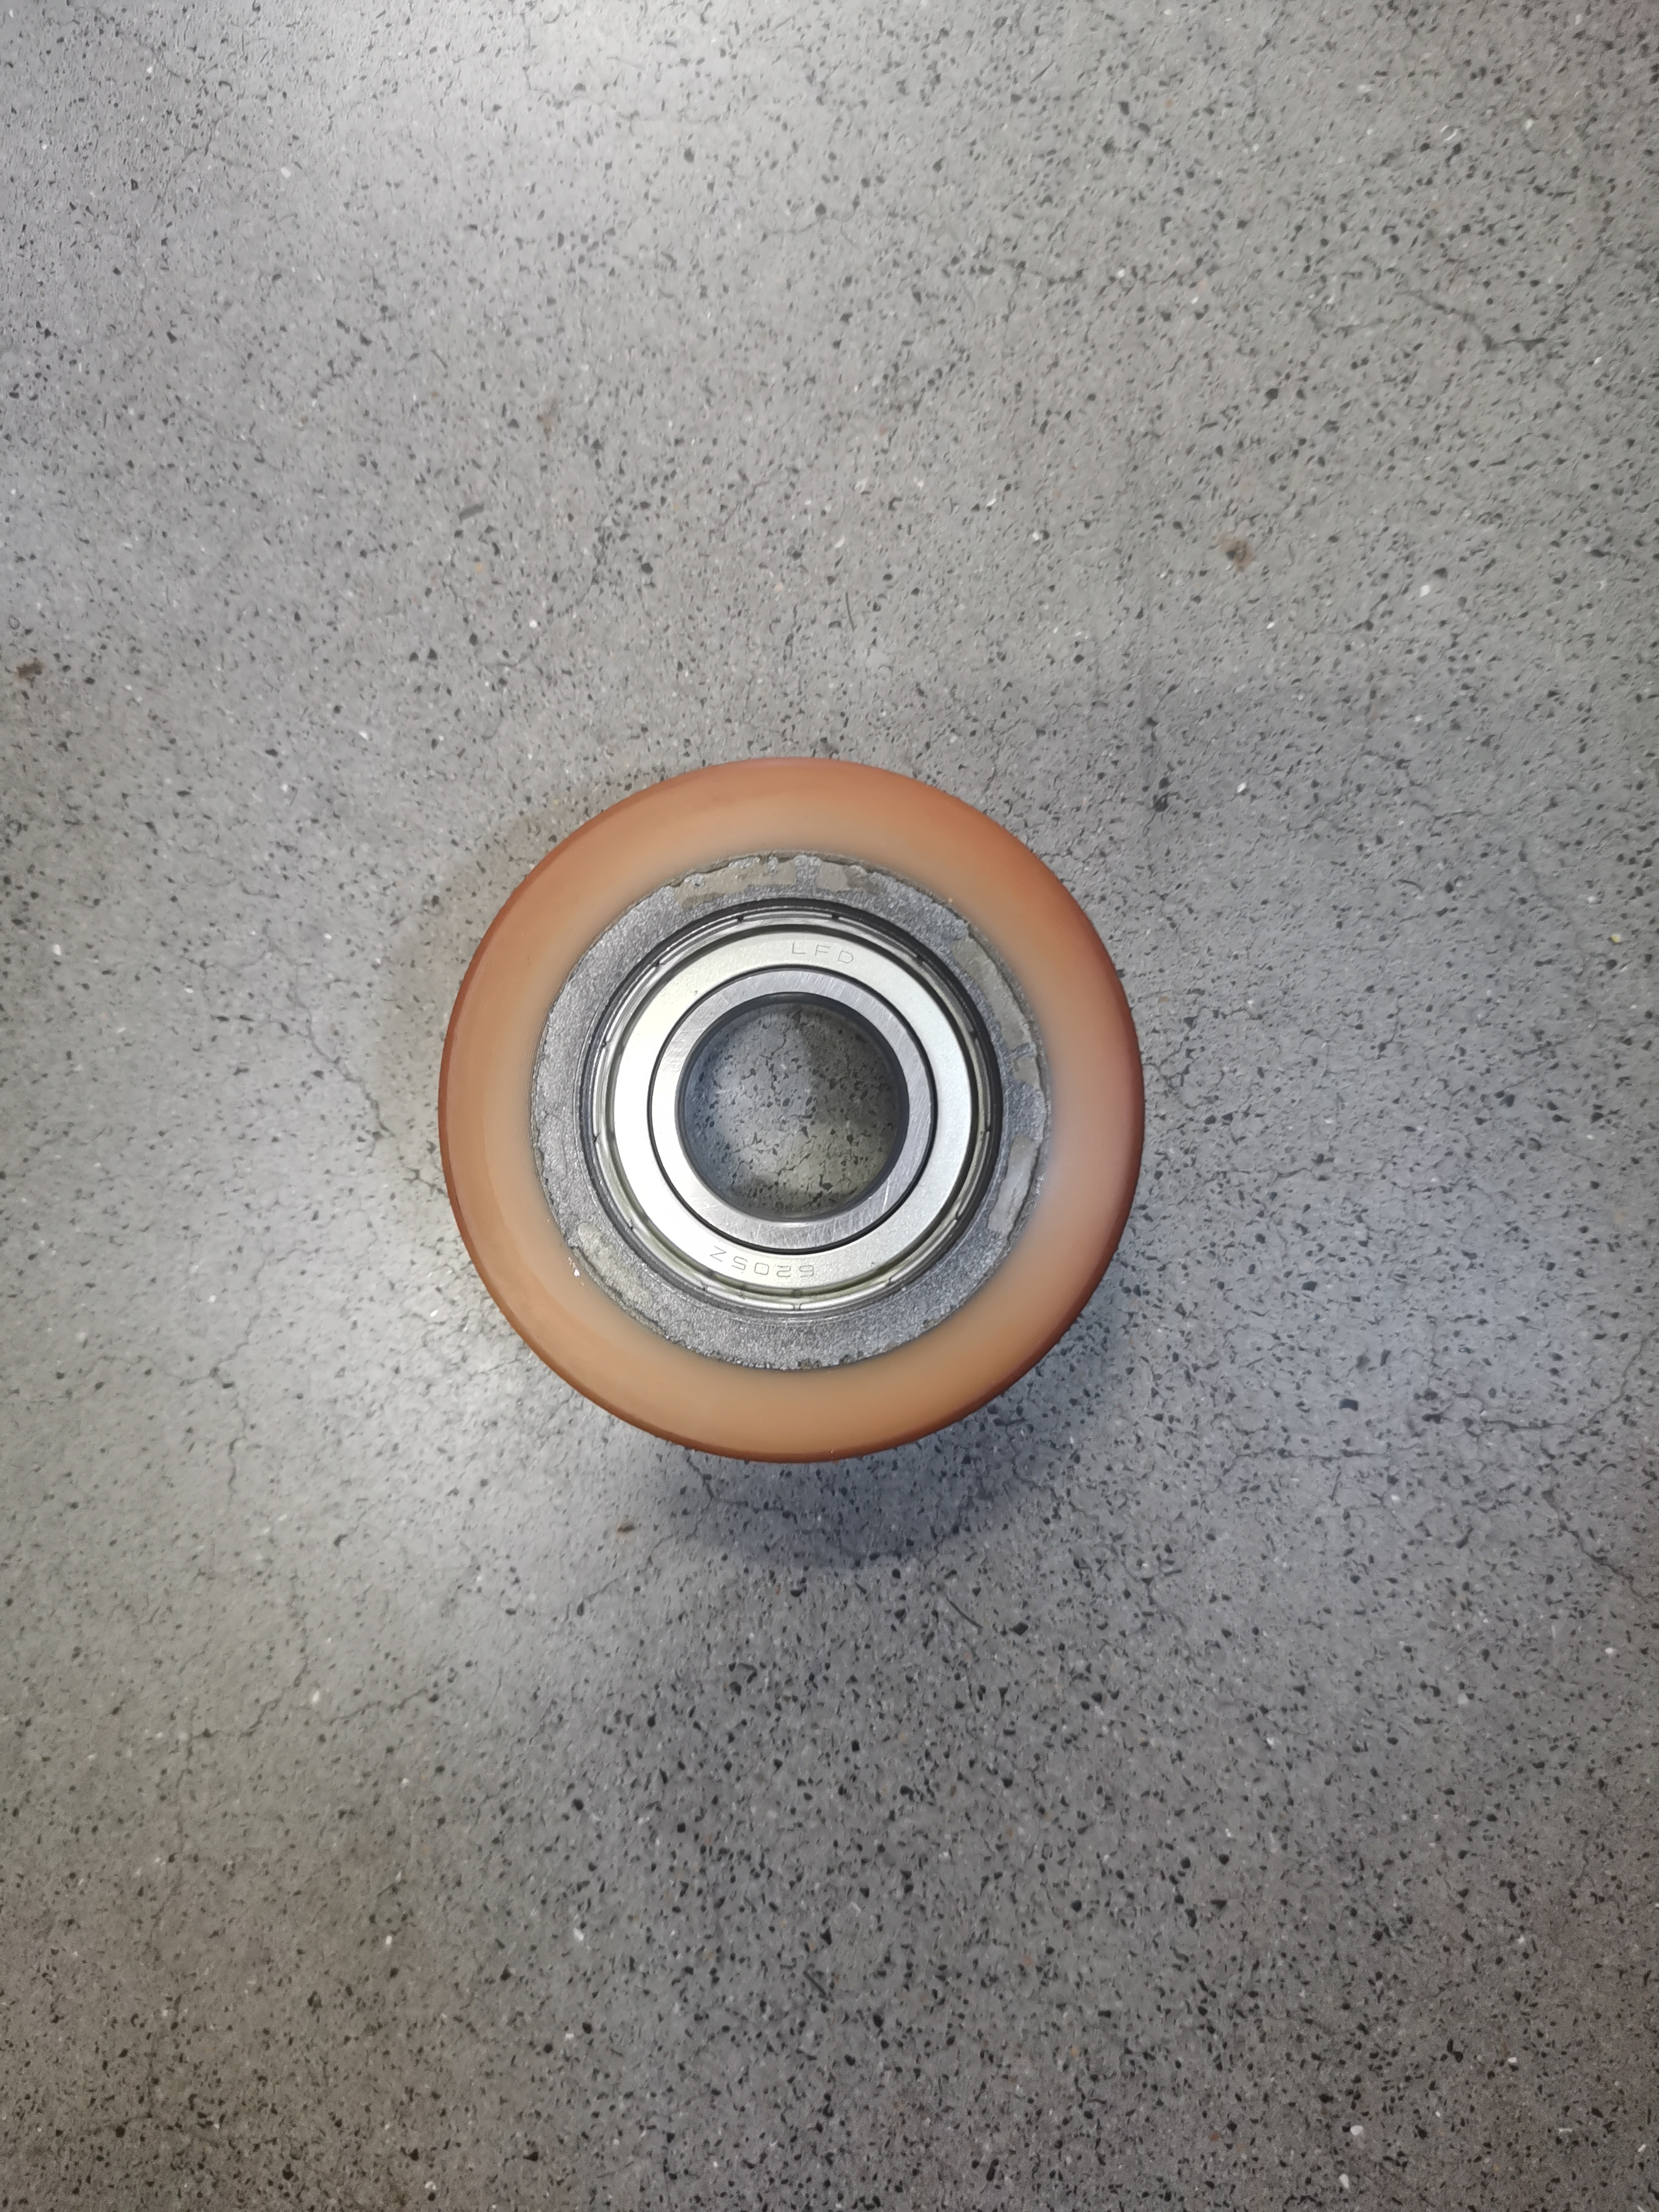good_wheel: (347, 740, 1256, 1517)
